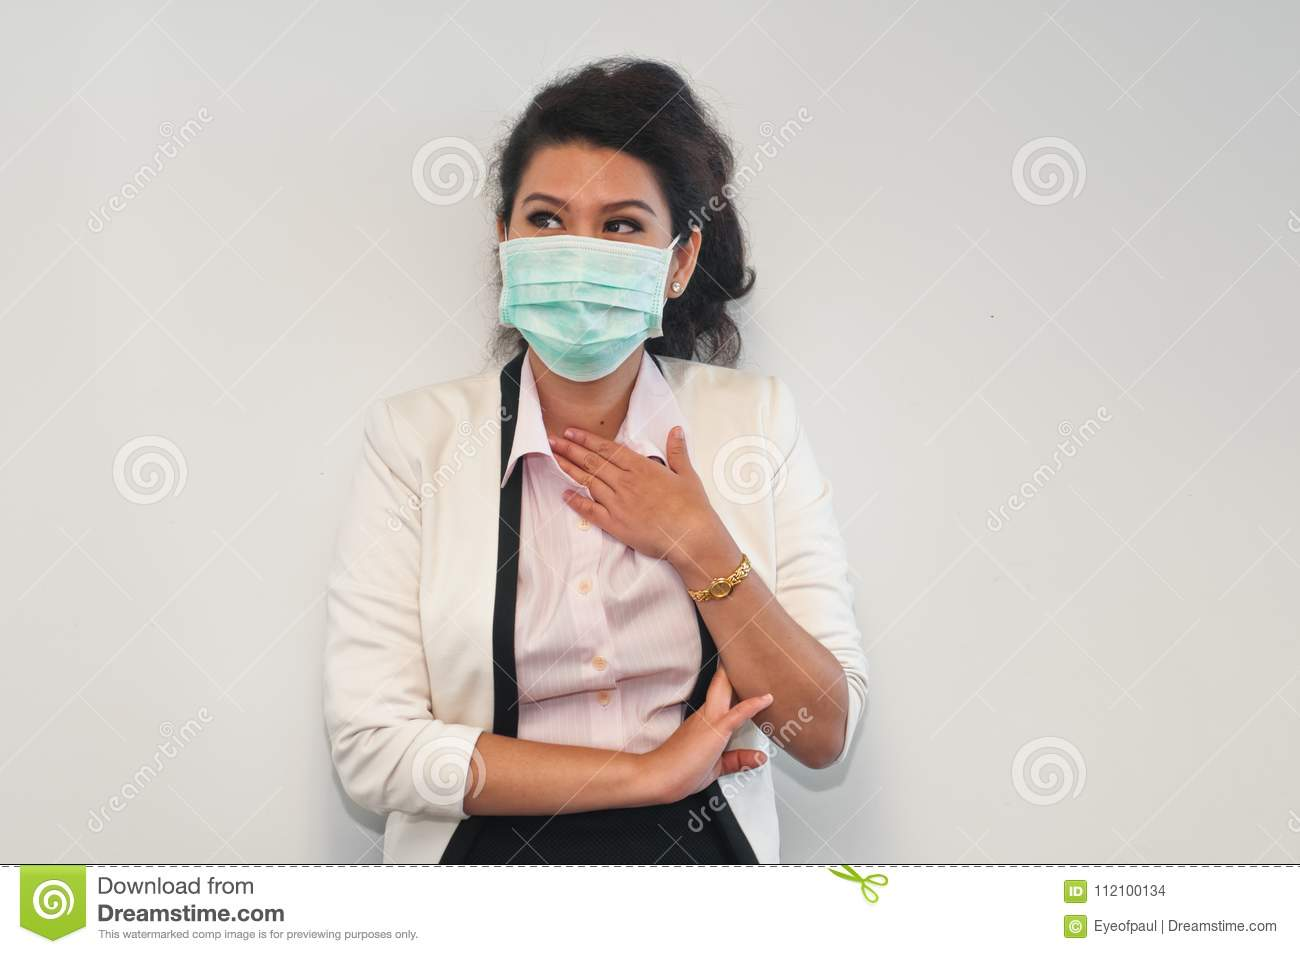mask: (498, 230, 669, 384)
